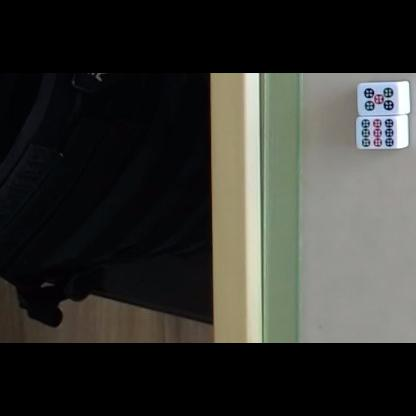5p: (364, 87, 394, 112)
9p: (360, 118, 395, 148)
